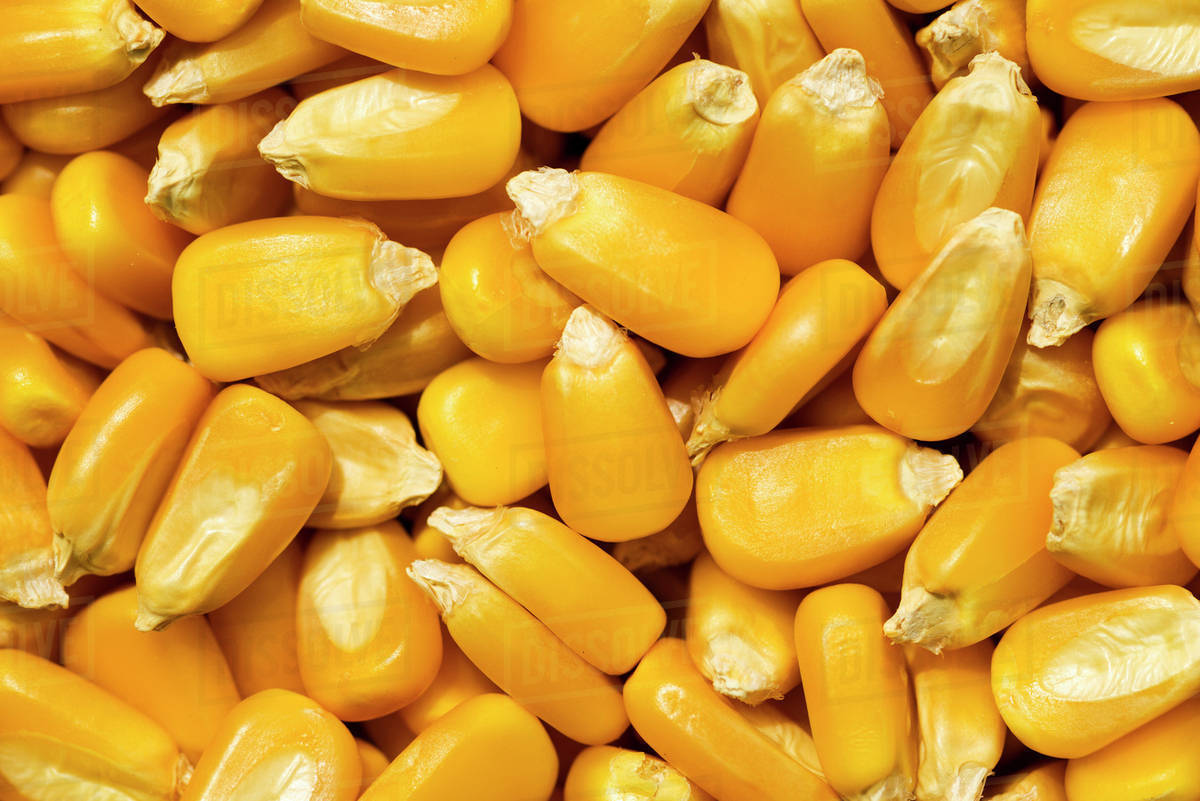corn: (505, 158, 782, 363), (133, 377, 333, 633), (1020, 87, 1199, 352), (695, 425, 966, 591), (172, 215, 444, 380), (853, 202, 1034, 444), (255, 59, 525, 201), (51, 348, 214, 582), (990, 581, 1200, 761)
